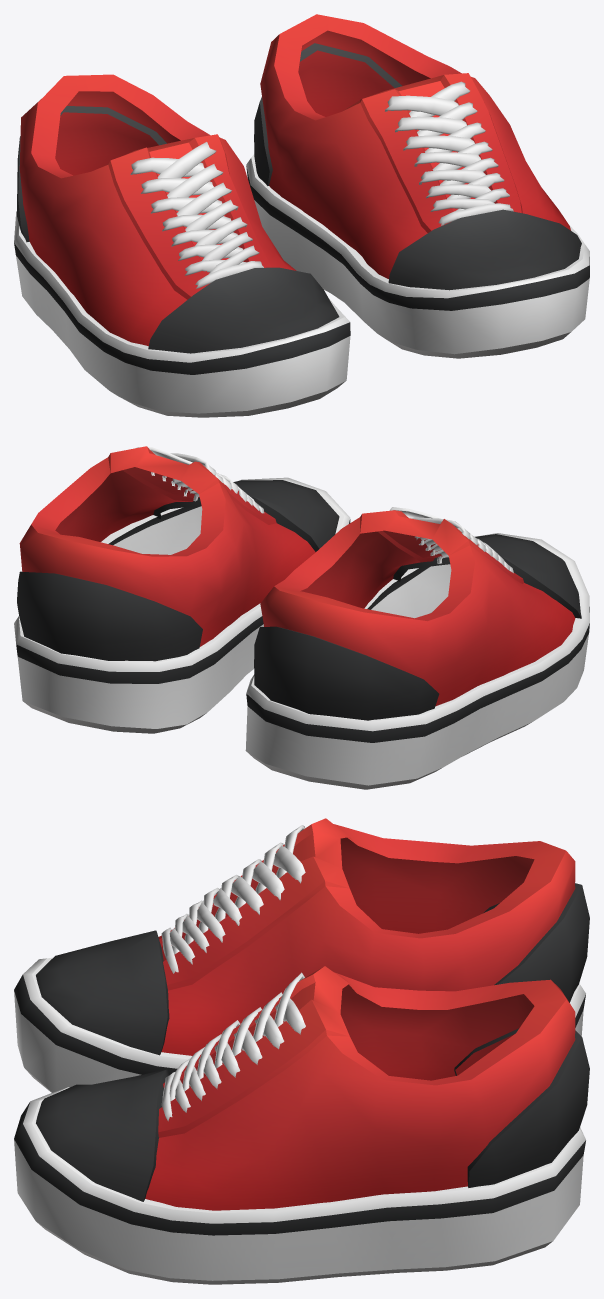
The model's file is Shoe_Sneakers_08.glb.
3 views of the same model, one above another, from view 1: azimuth 30°, elevation 25°; view 2: azimuth 150°, elevation 25°; view 3: azimuth 270°, elevation 25° (orthographic). The views are drawn at different scales.
Visible parts, largest first — view 1: Shoe_Sneakers_08; view 2: Shoe_Sneakers_08; view 3: Shoe_Sneakers_08.
Part boxes in pixels (x1,y1,x2,y2): Shoe_Sneakers_08: (14, 14, 589, 417); Shoe_Sneakers_08: (14, 446, 589, 789); Shoe_Sneakers_08: (14, 818, 589, 1284).
Bounding box in the file's own units: 0.2502 × 0.1033 × 0.2213.
Materials: 1 (1 with a texture image).
